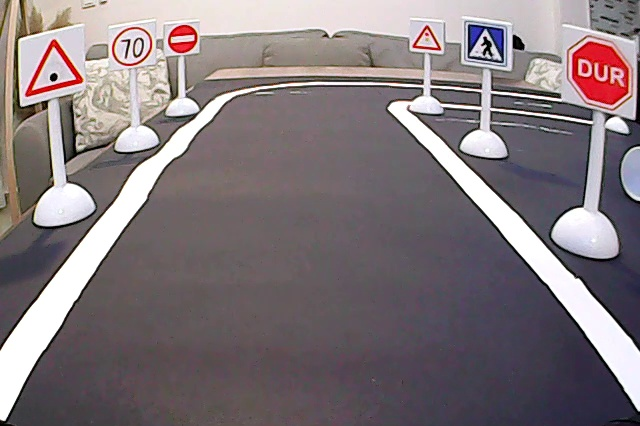do not enter: (164, 21, 200, 55)
green light: (19, 35, 90, 98)
pedestrian crossing: (462, 18, 509, 69)
red light: (410, 22, 443, 54)
speed limit 70: (111, 23, 156, 70)
stop sign: (565, 35, 635, 114)
